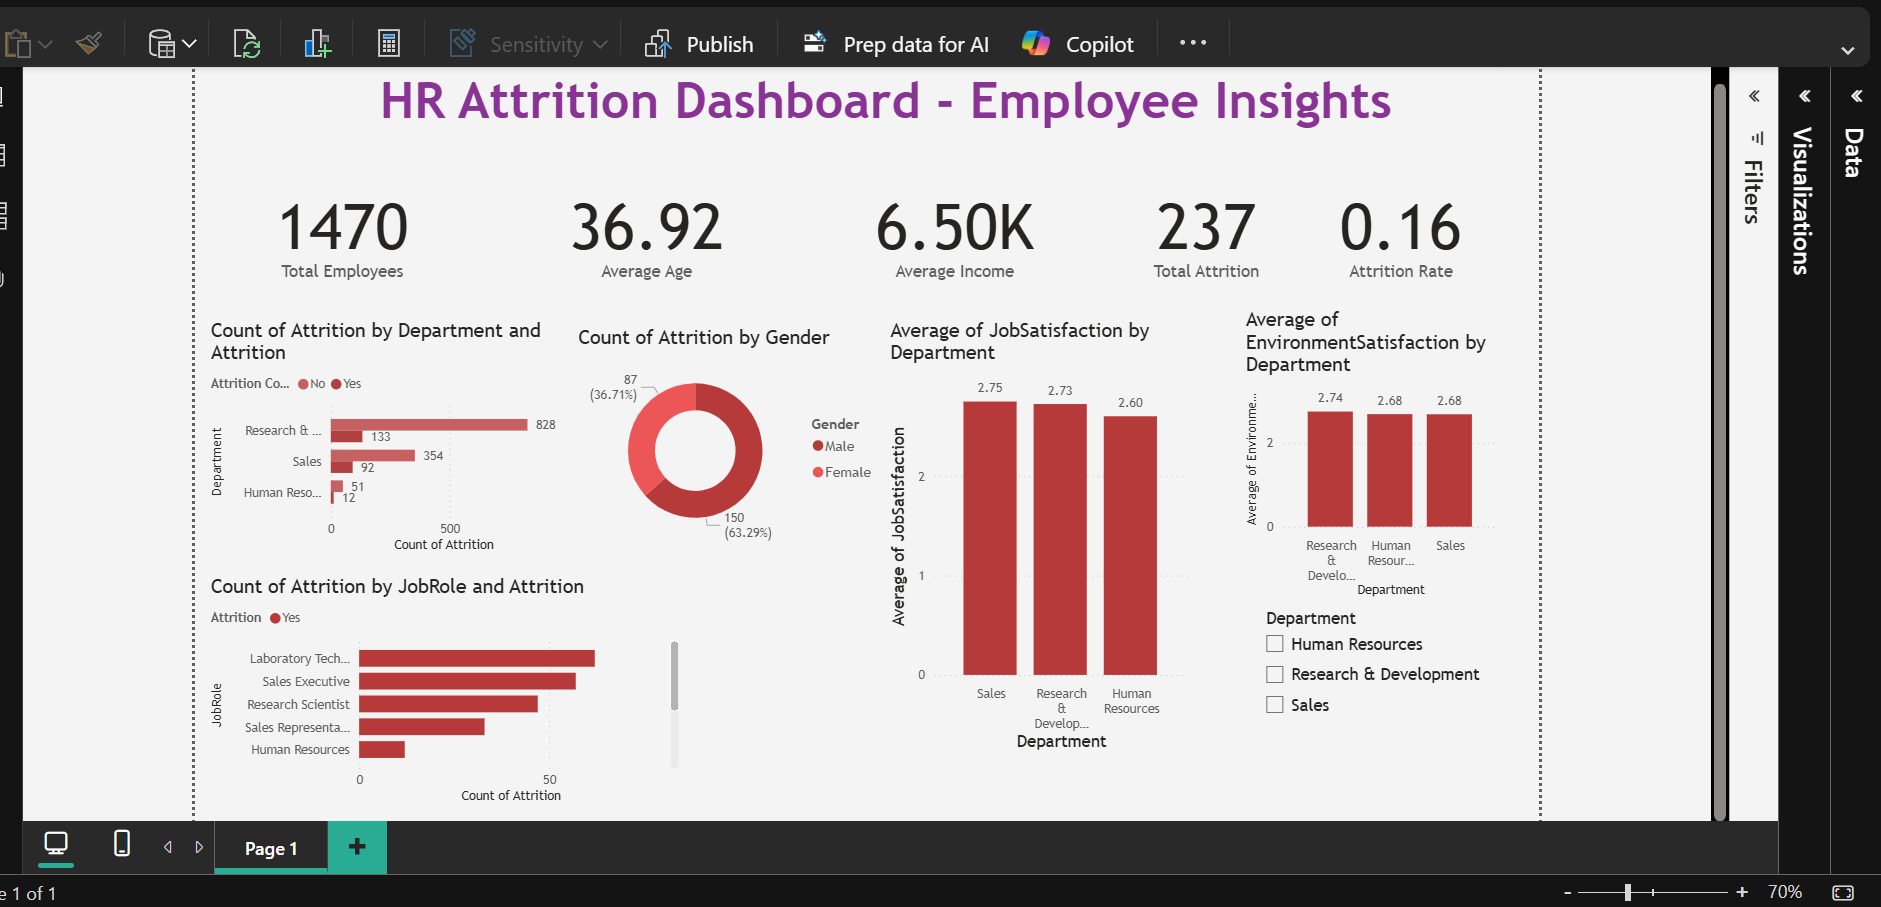

Layout of this report page (visuals, bound fields, positions):
{"tool":"powerbi","page":{"name":"Page 1","canvas":[1280,720],"ordinal":0},"visuals":[{"type":"card","fields":{"Values":["HR-Employee-Attrition.Attrition Rate"]},"box":[1015.4,76.2,265,165.6],"z":0},{"type":"card","fields":{"Values":["HR-Employee-Attrition.Total Employees"]},"box":[0,76.2,279.9,165.6],"z":1},{"type":"card","fields":{"Values":["HR-Employee-Attrition.Average Age"]},"box":[279.9,76.2,299.8,165.6],"z":2},{"type":"card","fields":{"Values":["HR-Employee-Attrition.Average Income"]},"box":[564.9,76.2,318,165.6],"z":3},{"type":"card","fields":{"Values":["HR-Employee-Attrition.Total Attrition"]},"box":[836.5,76.2,251.8,165.6],"z":4},{"type":"textbox","box":[69.6,0,1176.1,76.2],"z":5},{"type":"clusteredBarChart","fields":{"Category":["HR-Employee-Attrition.Department"],"Series":["HR-Employee-Attrition.Attrition"],"Y":["CountNonNull(HR-Employee-Attrition.Attrition)"]},"box":[9.9,241.8,349.5,226.9],"z":6},{"type":"donutChart","fields":{"Category":["HR-Employee-Attrition.Gender"],"Y":["CountNonNull(HR-Employee-Attrition.Attrition)"]},"box":[359.5,248.5,298.2,215.3],"z":7},{"type":"barChart","fields":{"Category":["HR-Employee-Attrition.JobRole"],"Y":["CountNonNull(HR-Employee-Attrition.Attrition)"],"Series":["HR-Employee-Attrition.Attrition"]},"box":[9.9,485.3,455.5,222],"z":8},{"type":"clusteredColumnChart","fields":{"Category":["HR-Employee-Attrition.Department"],"Y":["Avg(HR-Employee-Attrition.JobSatisfaction)"]},"box":[657.6,241.8,293.2,415.8],"z":9},{"type":"clusteredColumnChart","fields":{"Category":["HR-Employee-Attrition.Department"],"Y":["Avg(HR-Employee-Attrition.EnvironmentSatisfaction)"]},"box":[995.5,231.9,250.1,279.9],"z":10},{"type":"slicer","fields":{"Values":["HR-Employee-Attrition.Department"]},"box":[1007.1,511.9,238.5,195.5],"z":11}]}

Visuals, with their boxes in screenshot pixels (x1, y1, x2, y2):
card - HR-Employee-Attrition.Attrition Rate: bbox(1451, 62, 1768, 260)
card - HR-Employee-Attrition.Total Employees: bbox(235, 62, 570, 260)
card - HR-Employee-Attrition.Average Age: bbox(570, 62, 929, 260)
card - HR-Employee-Attrition.Average Income: bbox(911, 62, 1292, 260)
card - HR-Employee-Attrition.Total Attrition: bbox(1237, 62, 1538, 260)
textbox: bbox(318, 0, 1726, 62)
clusteredBarChart - HR-Employee-Attrition.Department x HR-Employee-Attrition.Attrition: bbox(247, 260, 665, 532)
donutChart - HR-Employee-Attrition.Gender x CountNonNull(HR-Employee-Attrition.Attrition): bbox(666, 268, 1023, 526)
barChart - HR-Employee-Attrition.JobRole x CountNonNull(HR-Employee-Attrition.Attrition): bbox(247, 552, 792, 817)
clusteredColumnChart - HR-Employee-Attrition.Department x Avg(HR-Employee-Attrition.JobSatisfaction): bbox(1022, 260, 1373, 758)
clusteredColumnChart - HR-Employee-Attrition.Department x Avg(HR-Employee-Attrition.EnvironmentSatisfaction): bbox(1427, 248, 1726, 583)
slicer - HR-Employee-Attrition.Department: bbox(1441, 583, 1726, 818)
